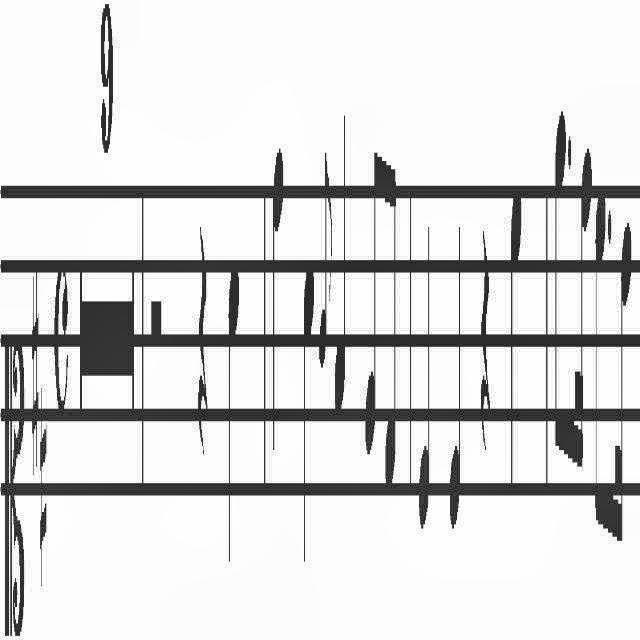Diez: (39, 332, 50, 604), (30, 250, 40, 486)
Eighth-note: (360, 120, 380, 484), (550, 65, 566, 505), (384, 140, 400, 520), (594, 156, 606, 552)
Quarter-note: (416, 210, 436, 586), (446, 188, 466, 556), (224, 250, 244, 602), (508, 185, 528, 510), (269, 108, 287, 468), (299, 231, 315, 585), (334, 124, 351, 424)
Quarter-rest: (476, 208, 496, 498), (193, 194, 210, 502)
Sixteenth-note: (575, 132, 593, 484), (614, 194, 630, 536)
